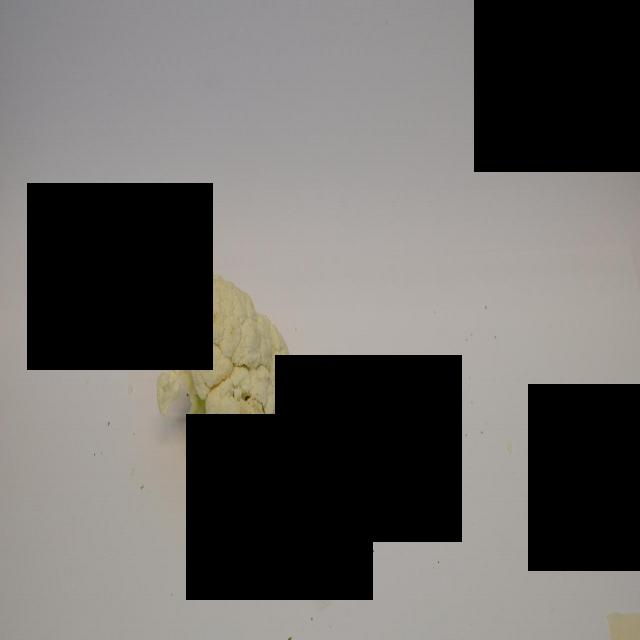cauliflower: (165, 256, 296, 493)
